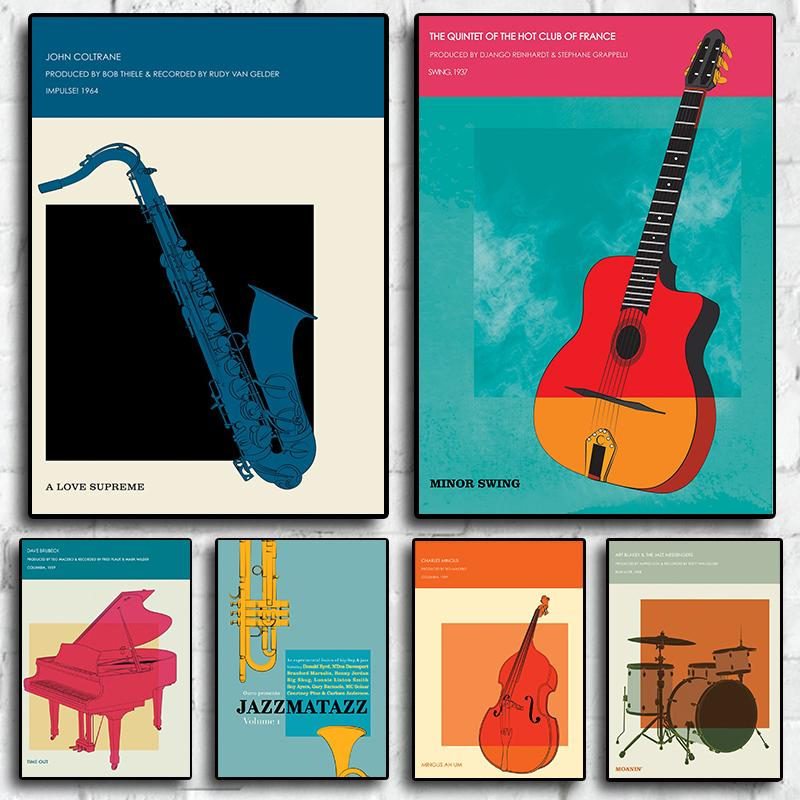Piano: (19, 575, 208, 780)
Saxophone: (29, 101, 366, 524)
Violin: (466, 558, 594, 787)
